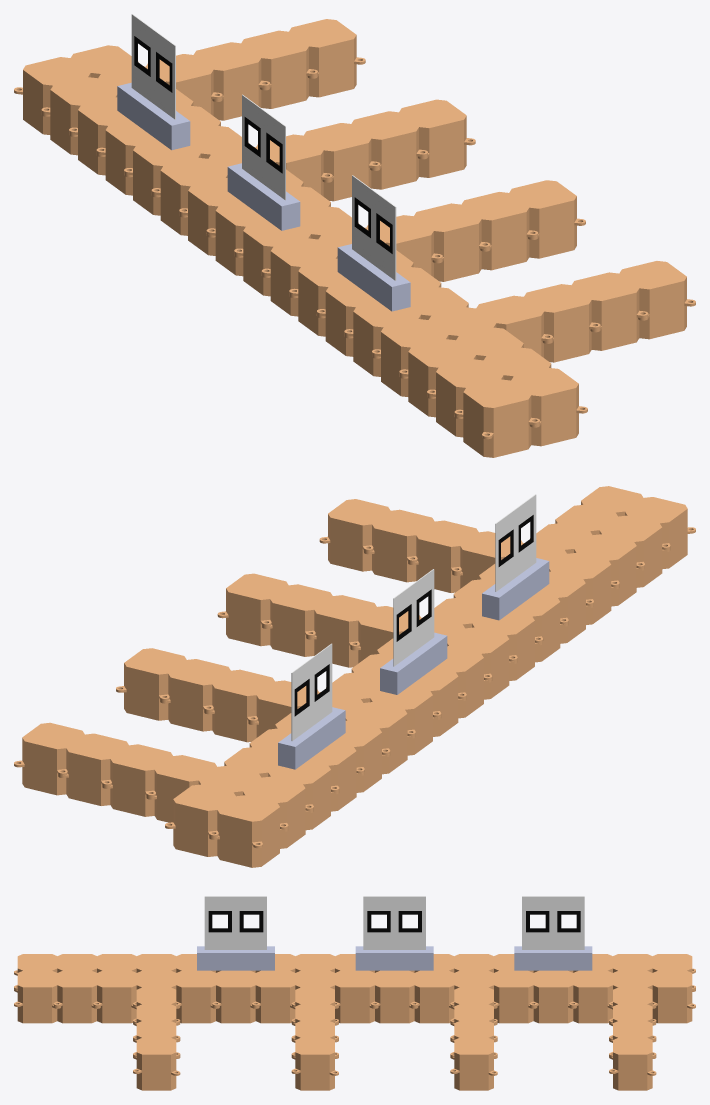
The model's file is docking_station_s.glb.
3 views of the same model, one above another, from view 1: azimuth 30°, elevation 25°; view 2: azimuth 150°, elevation 25°; view 3: azimuth 270°, elevation 25° (orthographic). The views are drawn at different scales.
Parts seen in each view (by area): view 1: Part, Part 3, Part 2, Part 4; view 2: Part, Part 3, Part 2, Part 4; view 3: Part, Part 3, Part 2, Part 4.
Part boxes in pixels (<box>): Part: <box>14,19,695,457</box>; Part 3: <box>131,14,396,280</box>; Part 2: <box>117,82,410,311</box>; Part 4: <box>134,36,392,253</box>; Part: <box>14,486,695,867</box>; Part 3: <box>291,494,536,740</box>; Part 2: <box>278,558,549,769</box>; Part 4: <box>294,515,533,716</box>; Part: <box>14,954,695,1090</box>; Part 3: <box>204,896,584,949</box>; Part 2: <box>197,946,592,970</box>; Part 4: <box>208,911,580,932</box>.
Size of the model in its own units: 3.14 by 1.51 by 8.73.
